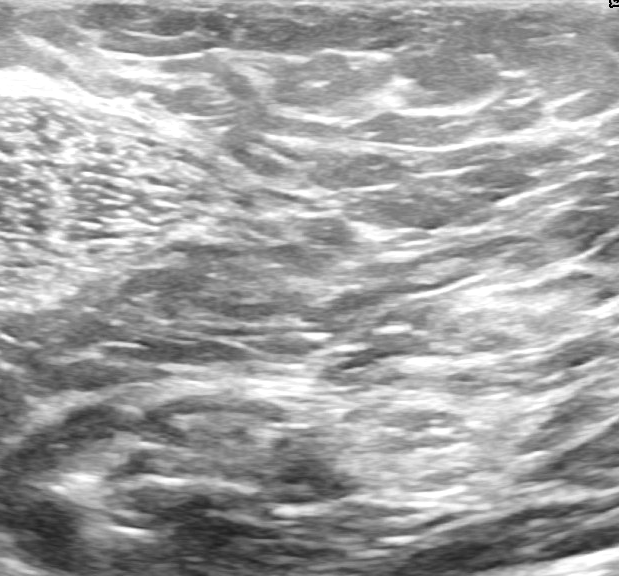Normal: (1, 25, 604, 569)
